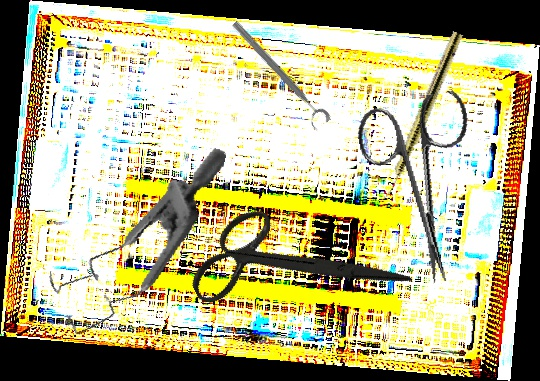Fixation Ring: (223, 17, 333, 134)
Handpiece: (379, 30, 464, 204)
Iris Scissors: (173, 157, 413, 373), (352, 88, 498, 293)
Speculum: (37, 118, 228, 359)
